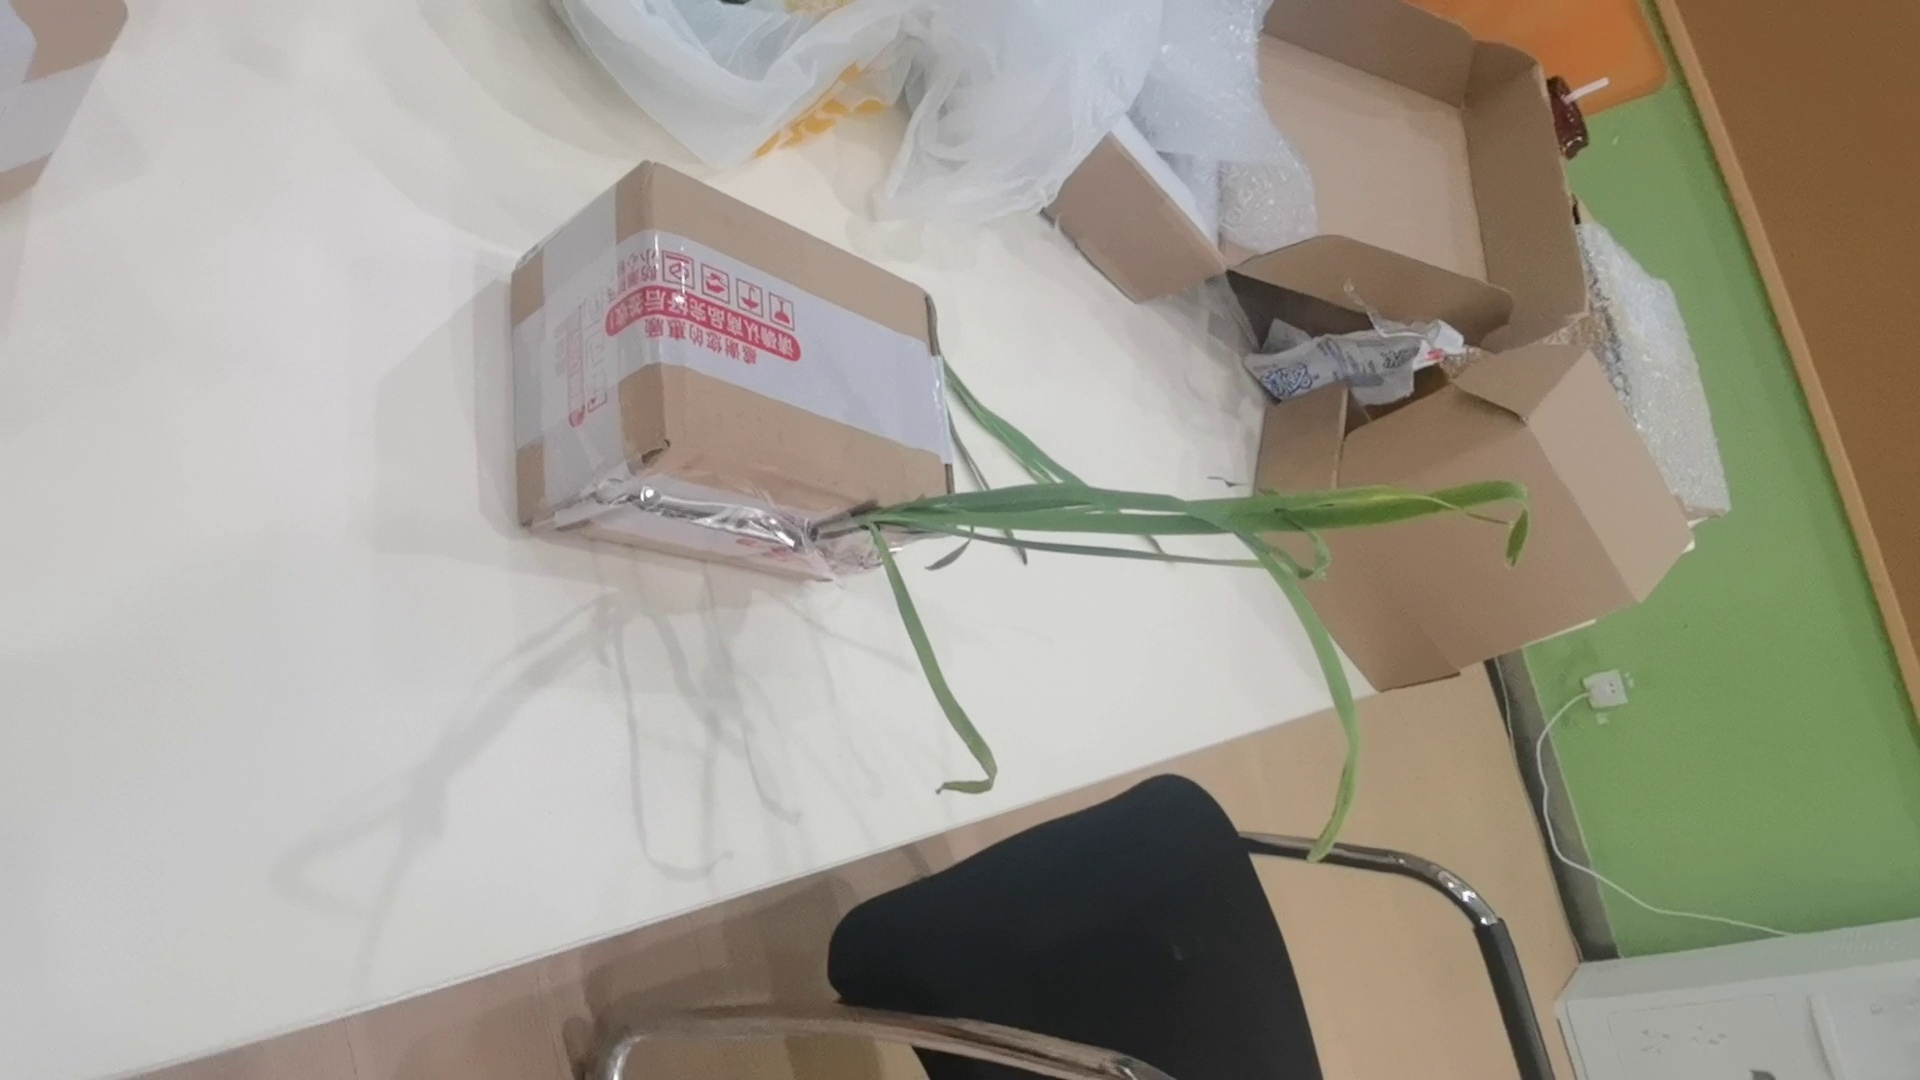chives: (820, 480, 1538, 865), (947, 369, 1080, 473)
